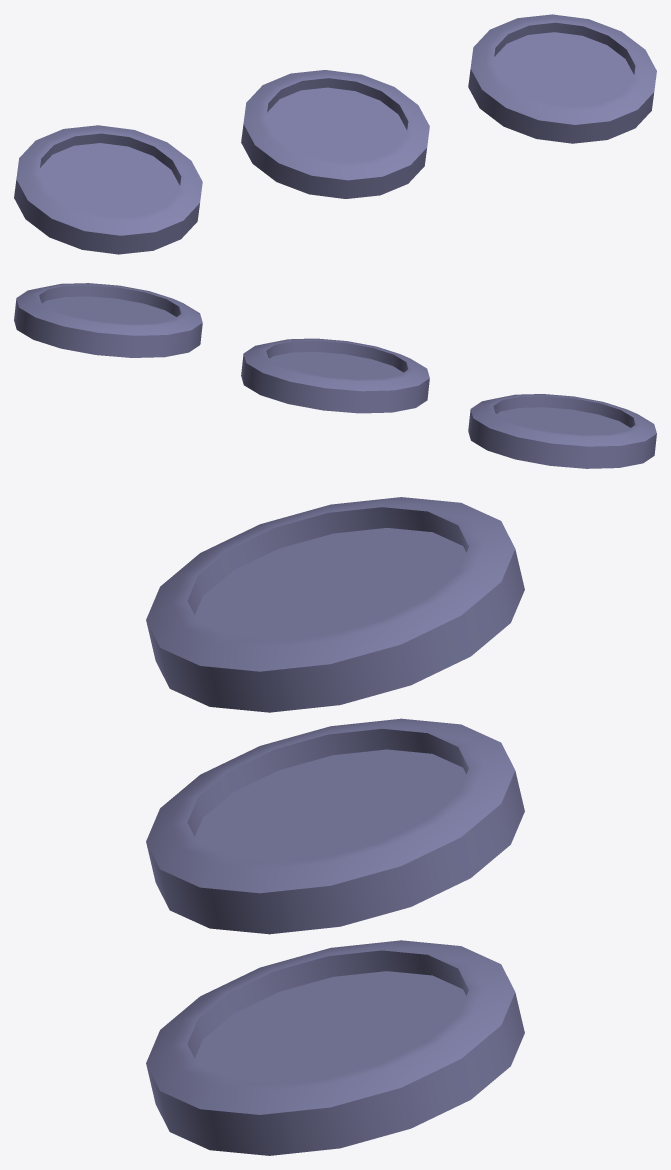
File: roverButtBase.gltf
The picture shows the model from 3 angles, top to bottom: view 1: azimuth 30°, elevation 25°; view 2: azimuth 150°, elevation 25°; view 3: azimuth 270°, elevation 25°; orthographic projection. The views are drawn at different scales.
Parts seen in each view (by area): view 1: buttonDent_geo1, buttonDent_geo1.004, buttonDent_geo1.003; view 2: buttonDent_geo1.004, buttonDent_geo1, buttonDent_geo1.003; view 3: buttonDent_geo1.003, buttonDent_geo1, buttonDent_geo1.004.
Boxes of the visible parts, x1,y1,x2,y2 form: buttonDent_geo1: (14,125,202,254); buttonDent_geo1.004: (468,14,656,143); buttonDent_geo1.003: (241,70,429,198); buttonDent_geo1.004: (14,283,202,357); buttonDent_geo1: (468,394,656,468); buttonDent_geo1.003: (241,338,429,413); buttonDent_geo1.003: (146,718,524,934); buttonDent_geo1: (146,497,524,712); buttonDent_geo1.004: (146,940,524,1155).
Bounding box in the file's own units: 3.54 × 0.3208 × 0.9394.
